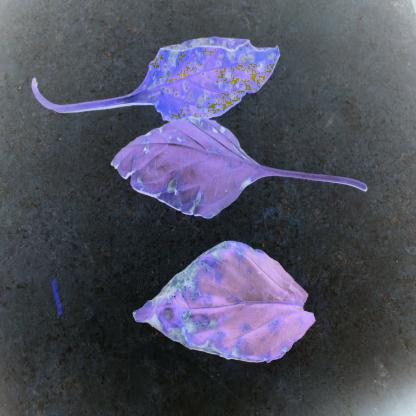bell pepper leaf spot: (118, 239, 320, 371), (106, 119, 278, 220), (122, 30, 287, 125)
